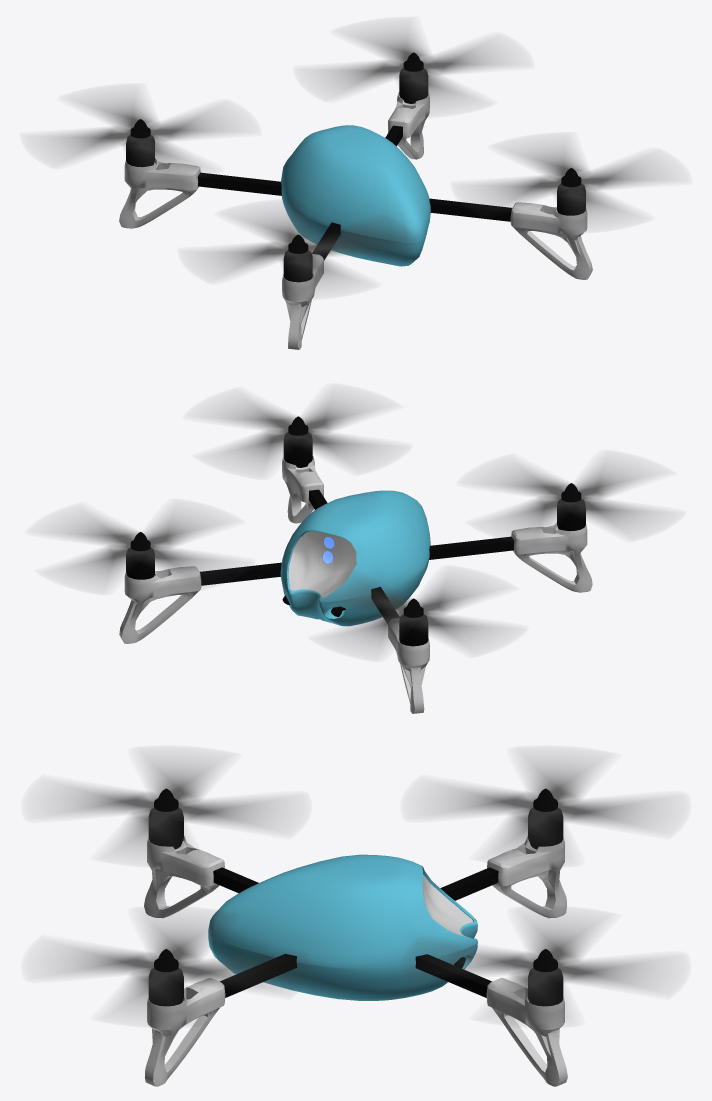
The model's file is Spiri_RT_2020-140mm.dae.
The picture shows the model from 3 angles, top to bottom: view 1: azimuth 30°, elevation 25°; view 2: azimuth 150°, elevation 25°; view 3: azimuth 270°, elevation 25°; orthographic projection. The views are drawn at different scales.
Parts seen in each view (by area): view 1: PropBlurComb, Shell, MotorMounts, MotorDummies, Arms; view 2: PropBlurComb, Shell, MotorMounts, MotorDummies, Face, Arms; view 3: PropBlurComb, Shell, MotorMounts, MotorDummies, Arms, Face.
Boxes of the visible parts, x1,y1,x2,y2 form: PropBlurComb: (34, 23, 676, 294); Shell: (281, 125, 430, 266); MotorMounts: (119, 92, 592, 349); MotorDummies: (126, 52, 585, 282); Arms: (197, 125, 511, 260); PropBlurComb: (41, 390, 670, 655); Shell: (280, 490, 430, 626); MotorMounts: (119, 456, 592, 713); MotorDummies: (126, 416, 585, 646); Face: (288, 531, 356, 597); Arms: (200, 489, 514, 623); PropBlurComb: (39, 753, 673, 1020); Shell: (208, 854, 477, 1000); MotorMounts: (144, 836, 567, 1086); MotorDummies: (148, 788, 563, 1006); Arms: (213, 867, 498, 997); Face: (422, 874, 473, 938).
Size of the model in its own units: 541 by 114 by 541.
